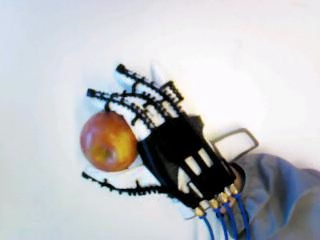apple: (81, 108, 137, 171)
hand: (79, 63, 238, 218)
